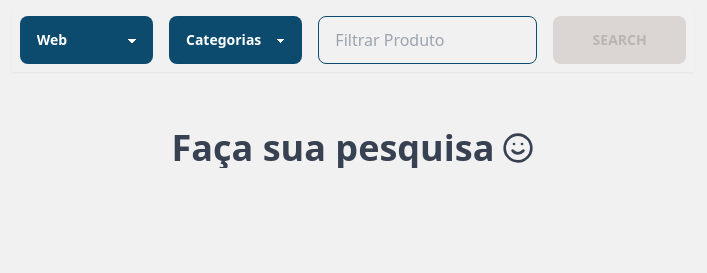
Test: App tests › Renders one item after search
Select "MercadoLivre (API)" in the dropdown named "web" at [86, 40], box [20,16,153,64]
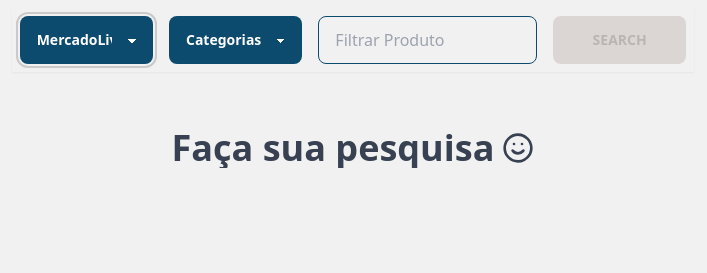
Select "Geladeira" in the dropdown named "categorias" at [236, 40], box [169,16,302,64]
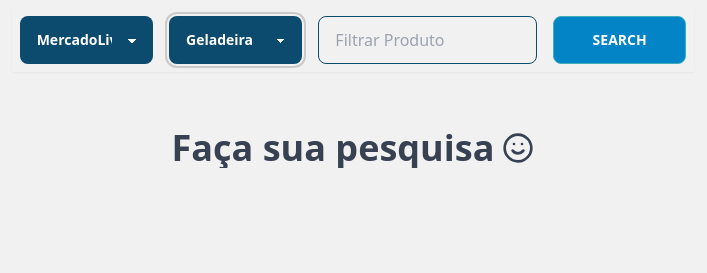
Click the button "Search" at [620, 40], box [553,16,686,64]
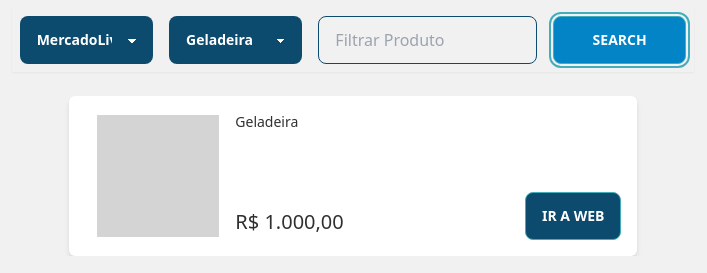
Check: the heading "Geladeira" is shown, box [235,112,298,131]
